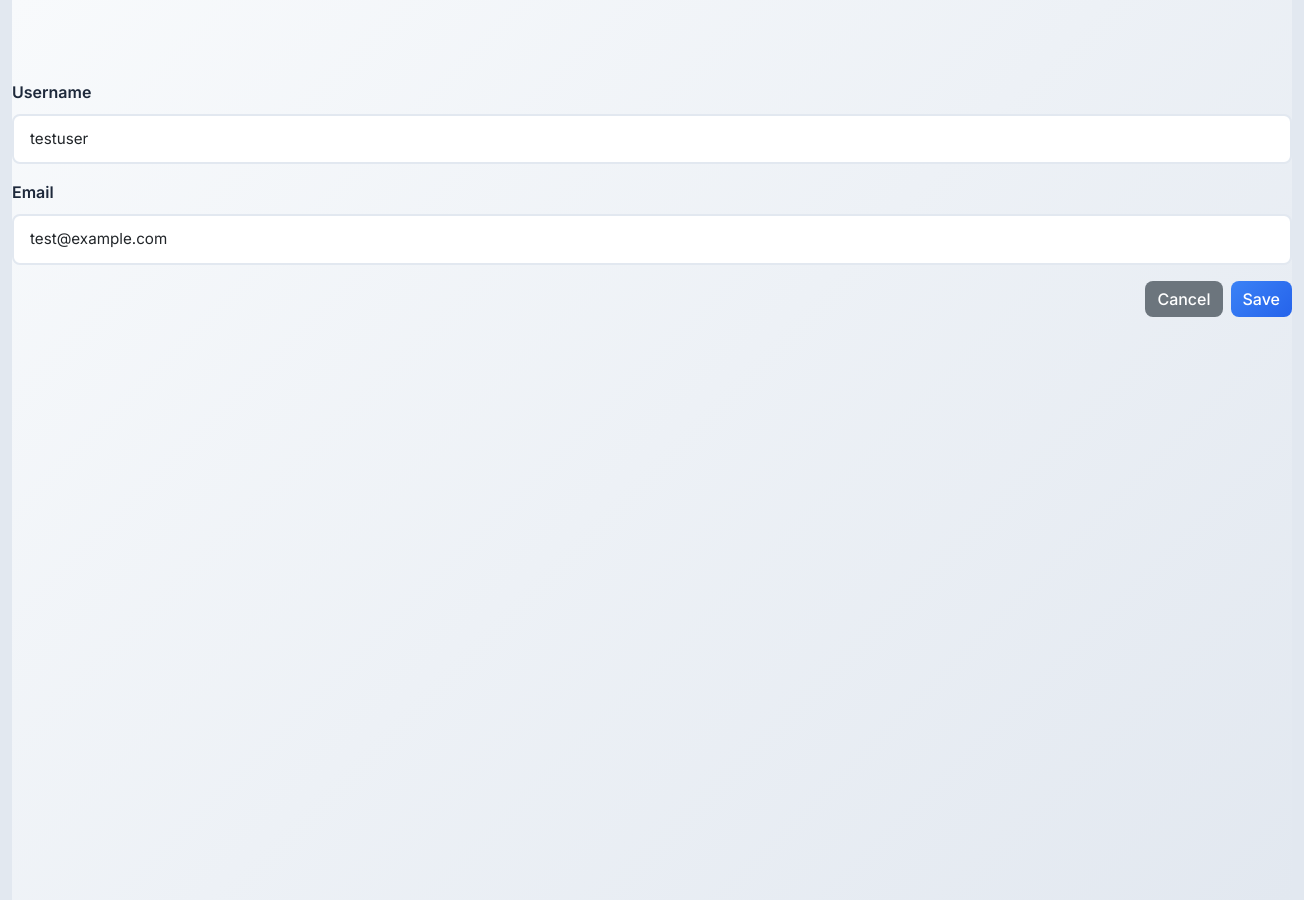
Test: EditProfileForm Component › clears error message when resubmitting
This screenshot has width=1304, height=900.
First submission with empty username
Clear the field labelled "Username" at (652, 139), box [12,114,1292,164]
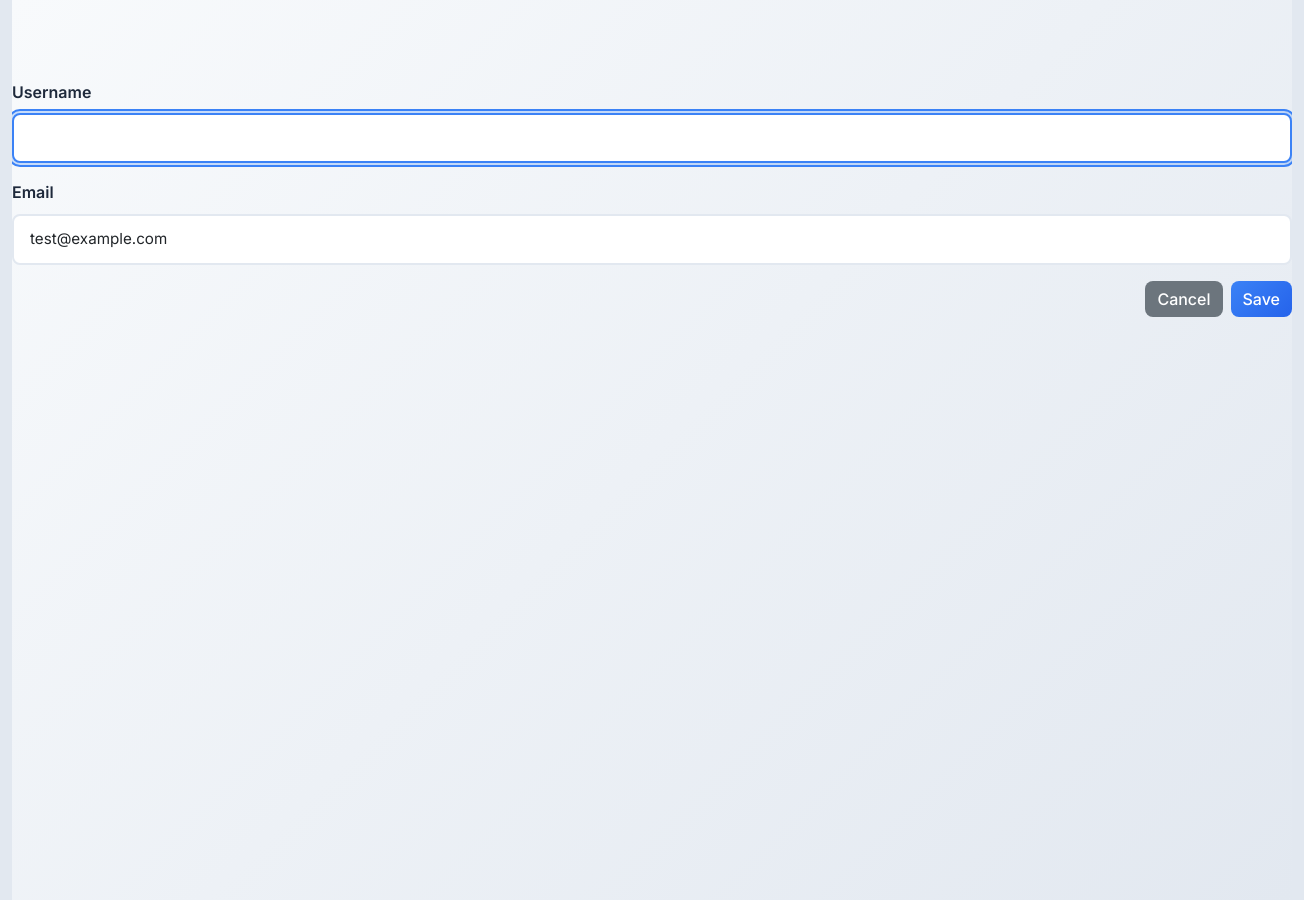
Click the button "Save".
click(1261, 299)  # box [1230,281,1292,317]
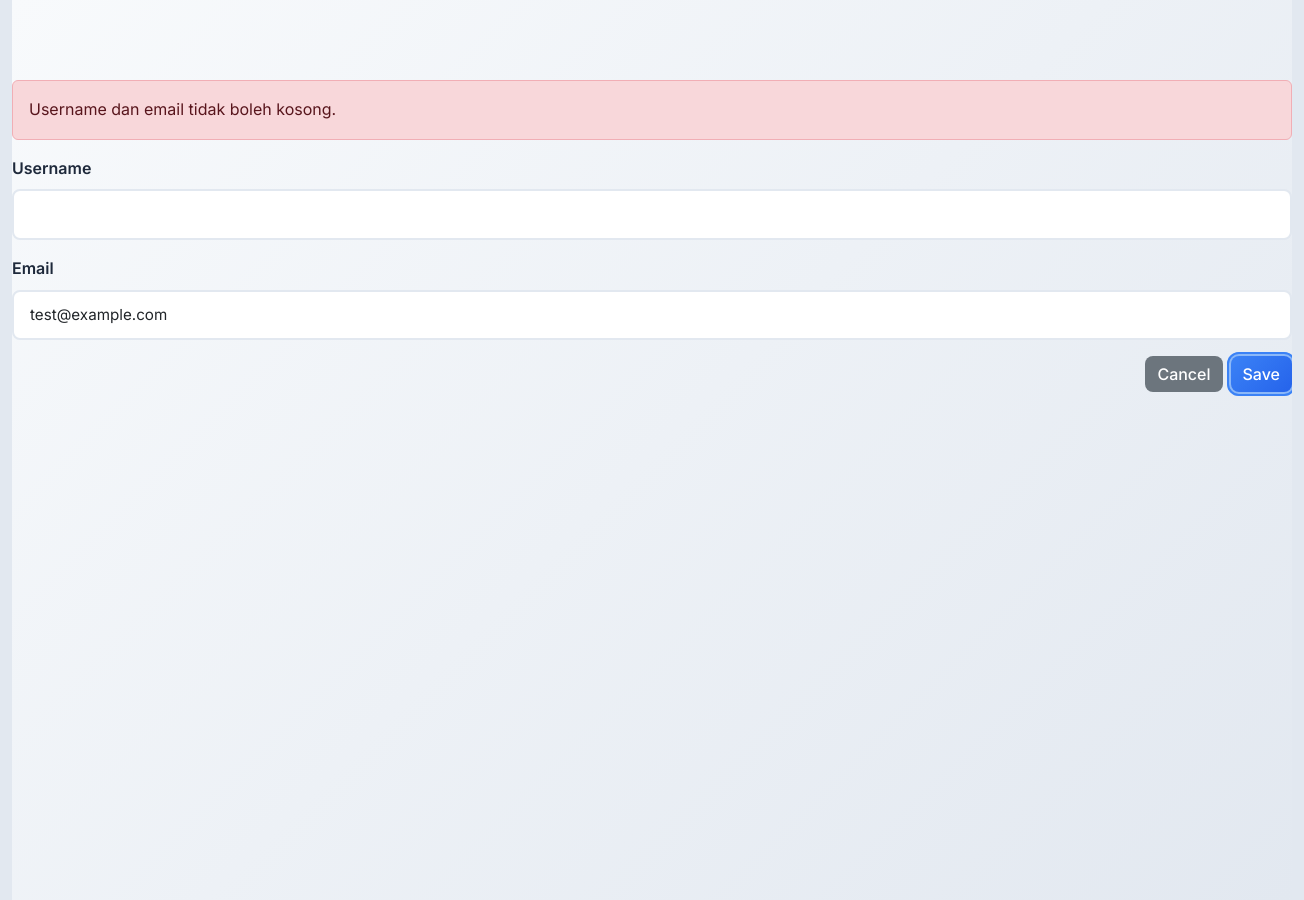
Check: the text "Username dan email tidak boleh kosong." is shown, box [12,80,1292,140]
Second submission should clear error
Type "validuser" into the field labelled "Username".
click(652, 215); type("validuser")  # box [12,189,1292,240]
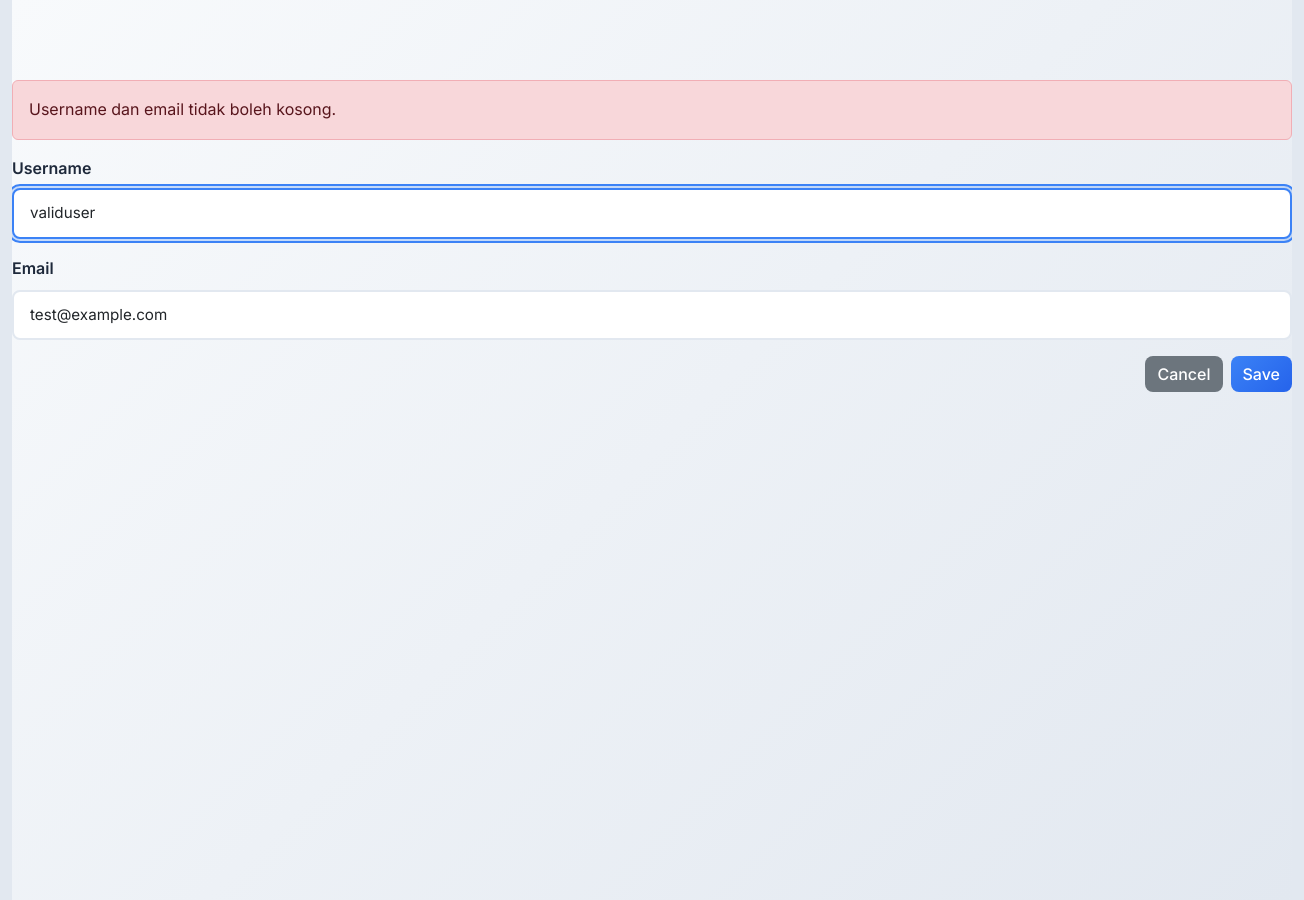
Click the button "Save".
click(1261, 374)  # box [1230,356,1292,392]
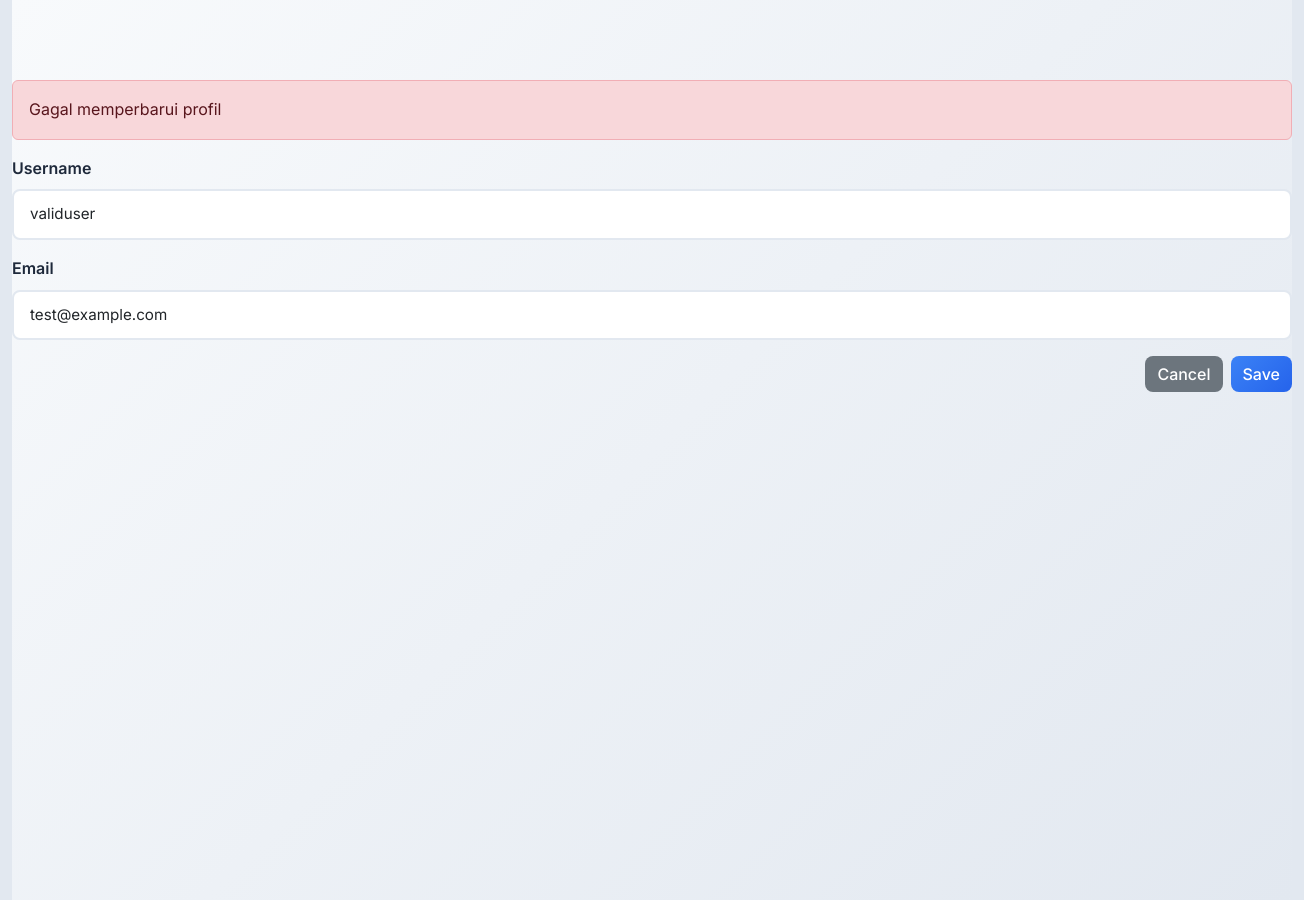
Check: the text "Username dan email tidak boleh kosong." is gone
